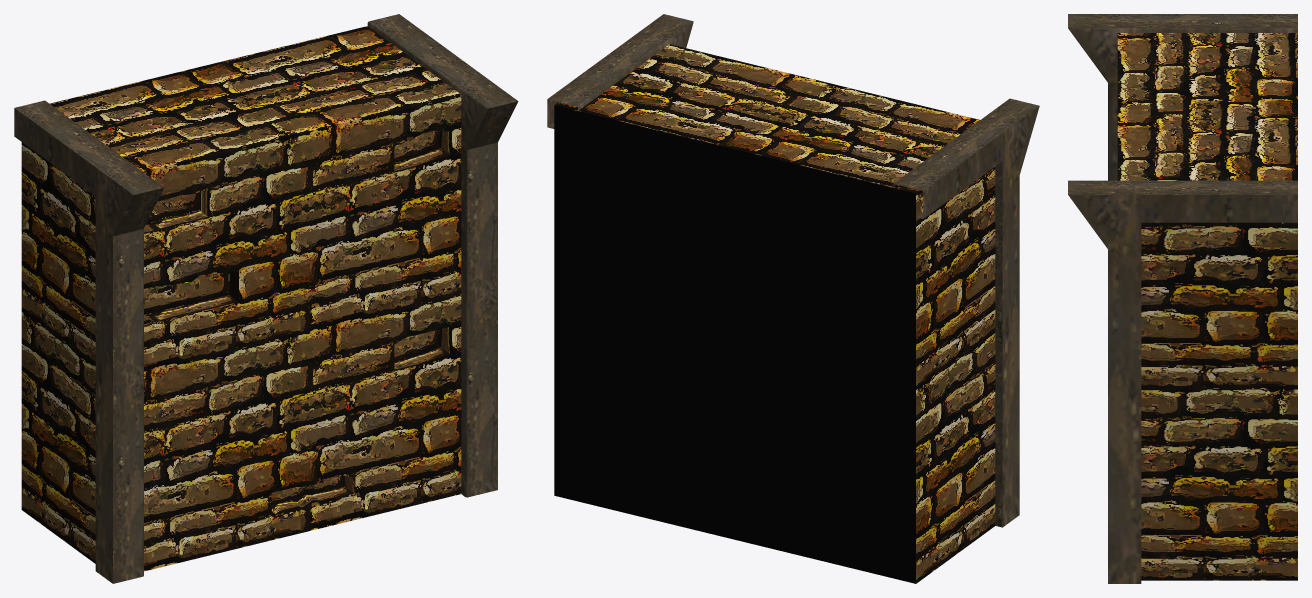
Rendered from stoneWallD.fbx.
3 renders of one model, left to right at view 1: azimuth 30°, elevation 25°; view 2: azimuth 150°, elevation 25°; view 3: azimuth 270°, elevation 25°, orthographic. The views are drawn at different scales.
Parts seen in each view (by area): view 1: stoneWallD; view 2: stoneWallD; view 3: stoneWallD.
Boxes of the visible parts, box(x1,y1,x2,y2) form: stoneWallD: box(14, 14, 518, 583); stoneWallD: box(547, 14, 1039, 583); stoneWallD: box(1068, 14, 1297, 583).
Bounding box in the file's own units: 300 × 301 × 161.
